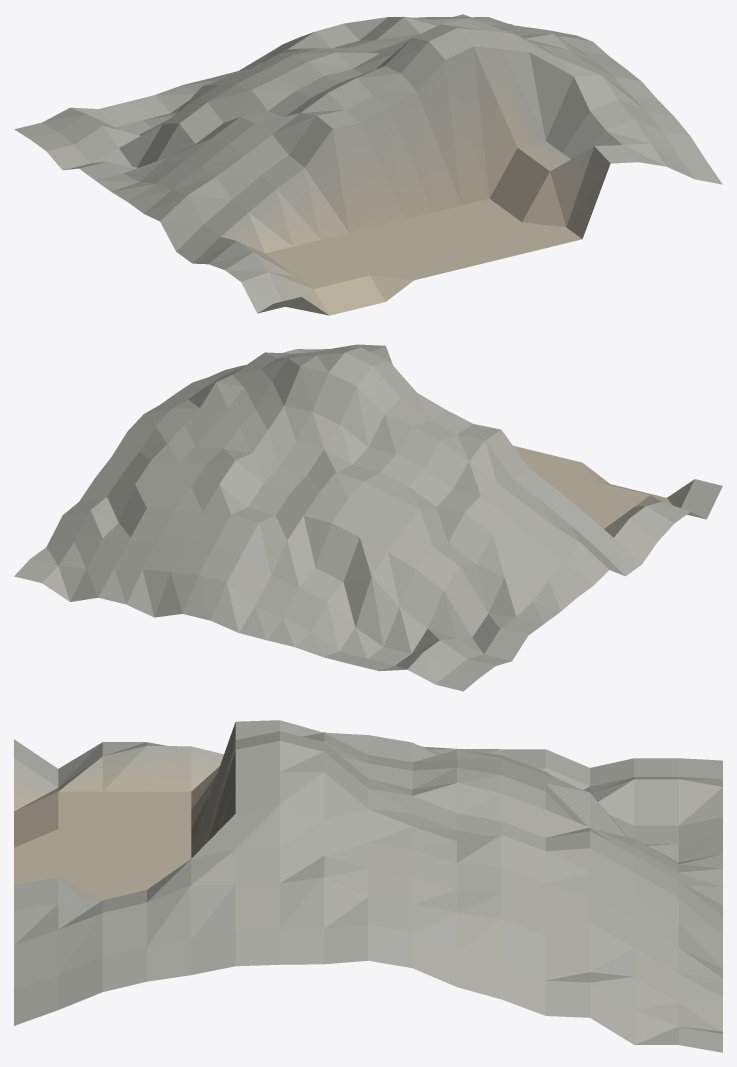
The picture shows the model from 3 angles, top to bottom: view 1: azimuth 30°, elevation 25°; view 2: azimuth 150°, elevation 25°; view 3: azimuth 270°, elevation 25°; orthographic projection. The views are drawn at different scales.
Size of the model in its own units: 32 by 10.99 by 32.
